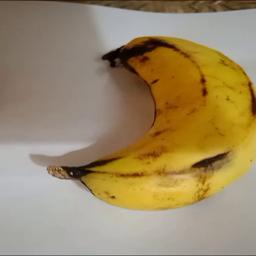Banana Semifresh: (45, 34, 256, 212)
